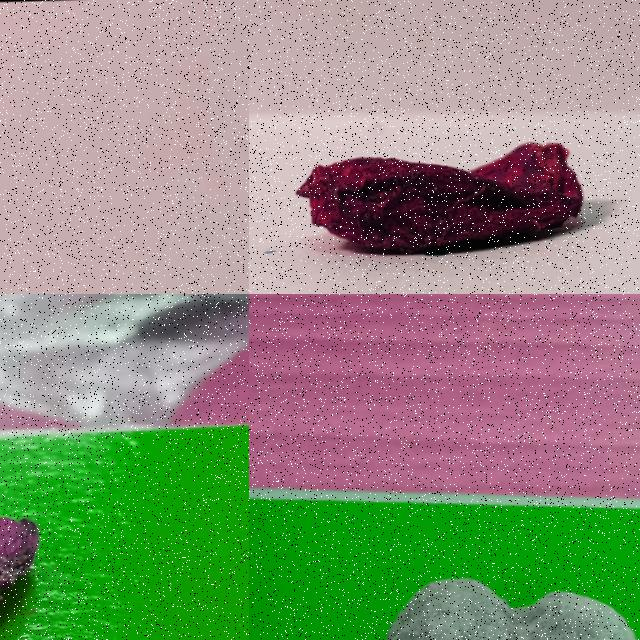Agglomerated_cocoabeans: (270, 544, 639, 639)
Flat_cocoabeans: (290, 127, 621, 293), (0, 452, 103, 639)
